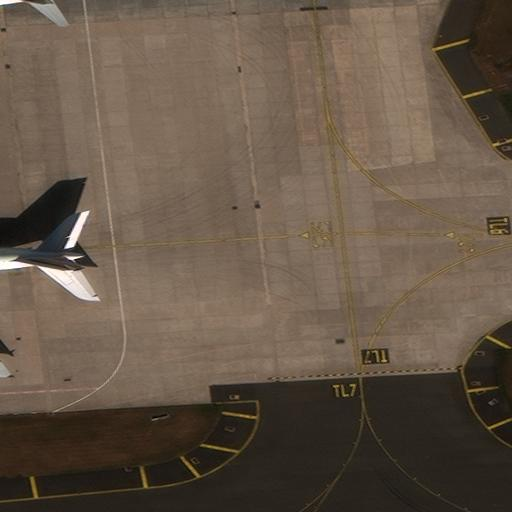Large Civil Transport: (0, 173, 86, 369), (0, 0, 55, 52)
